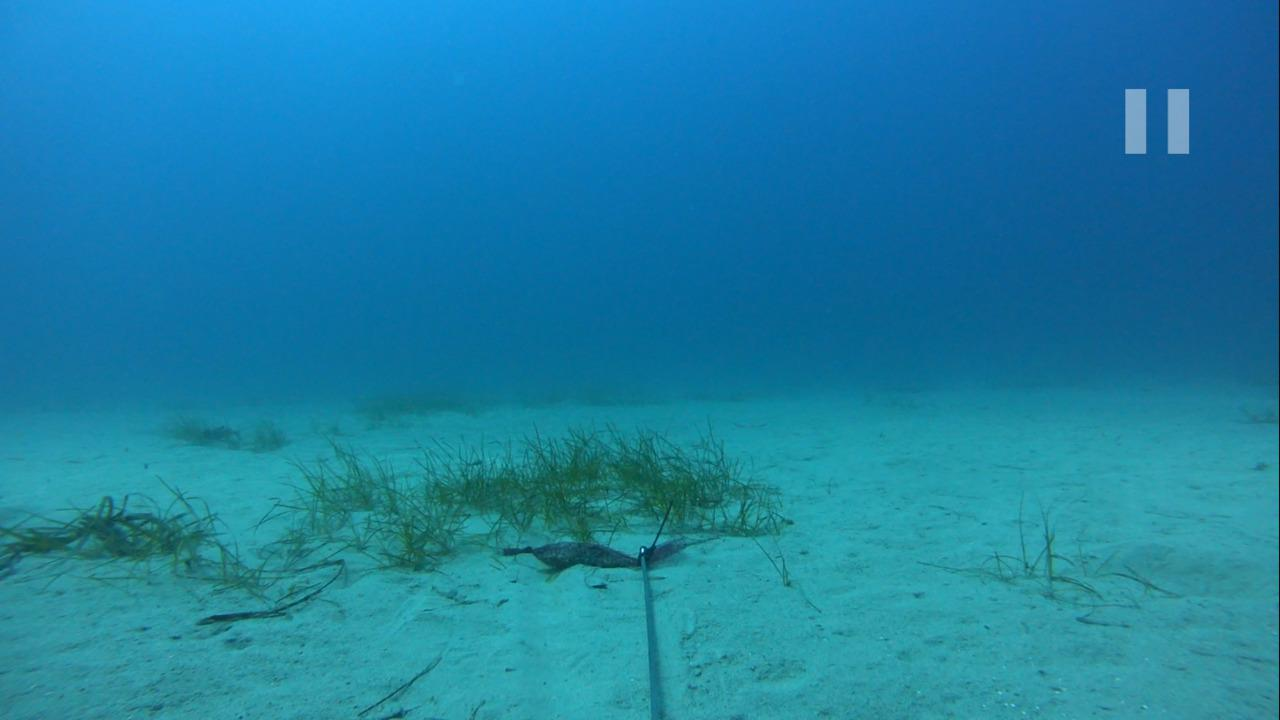dactylopterus: (182, 416, 253, 451)
